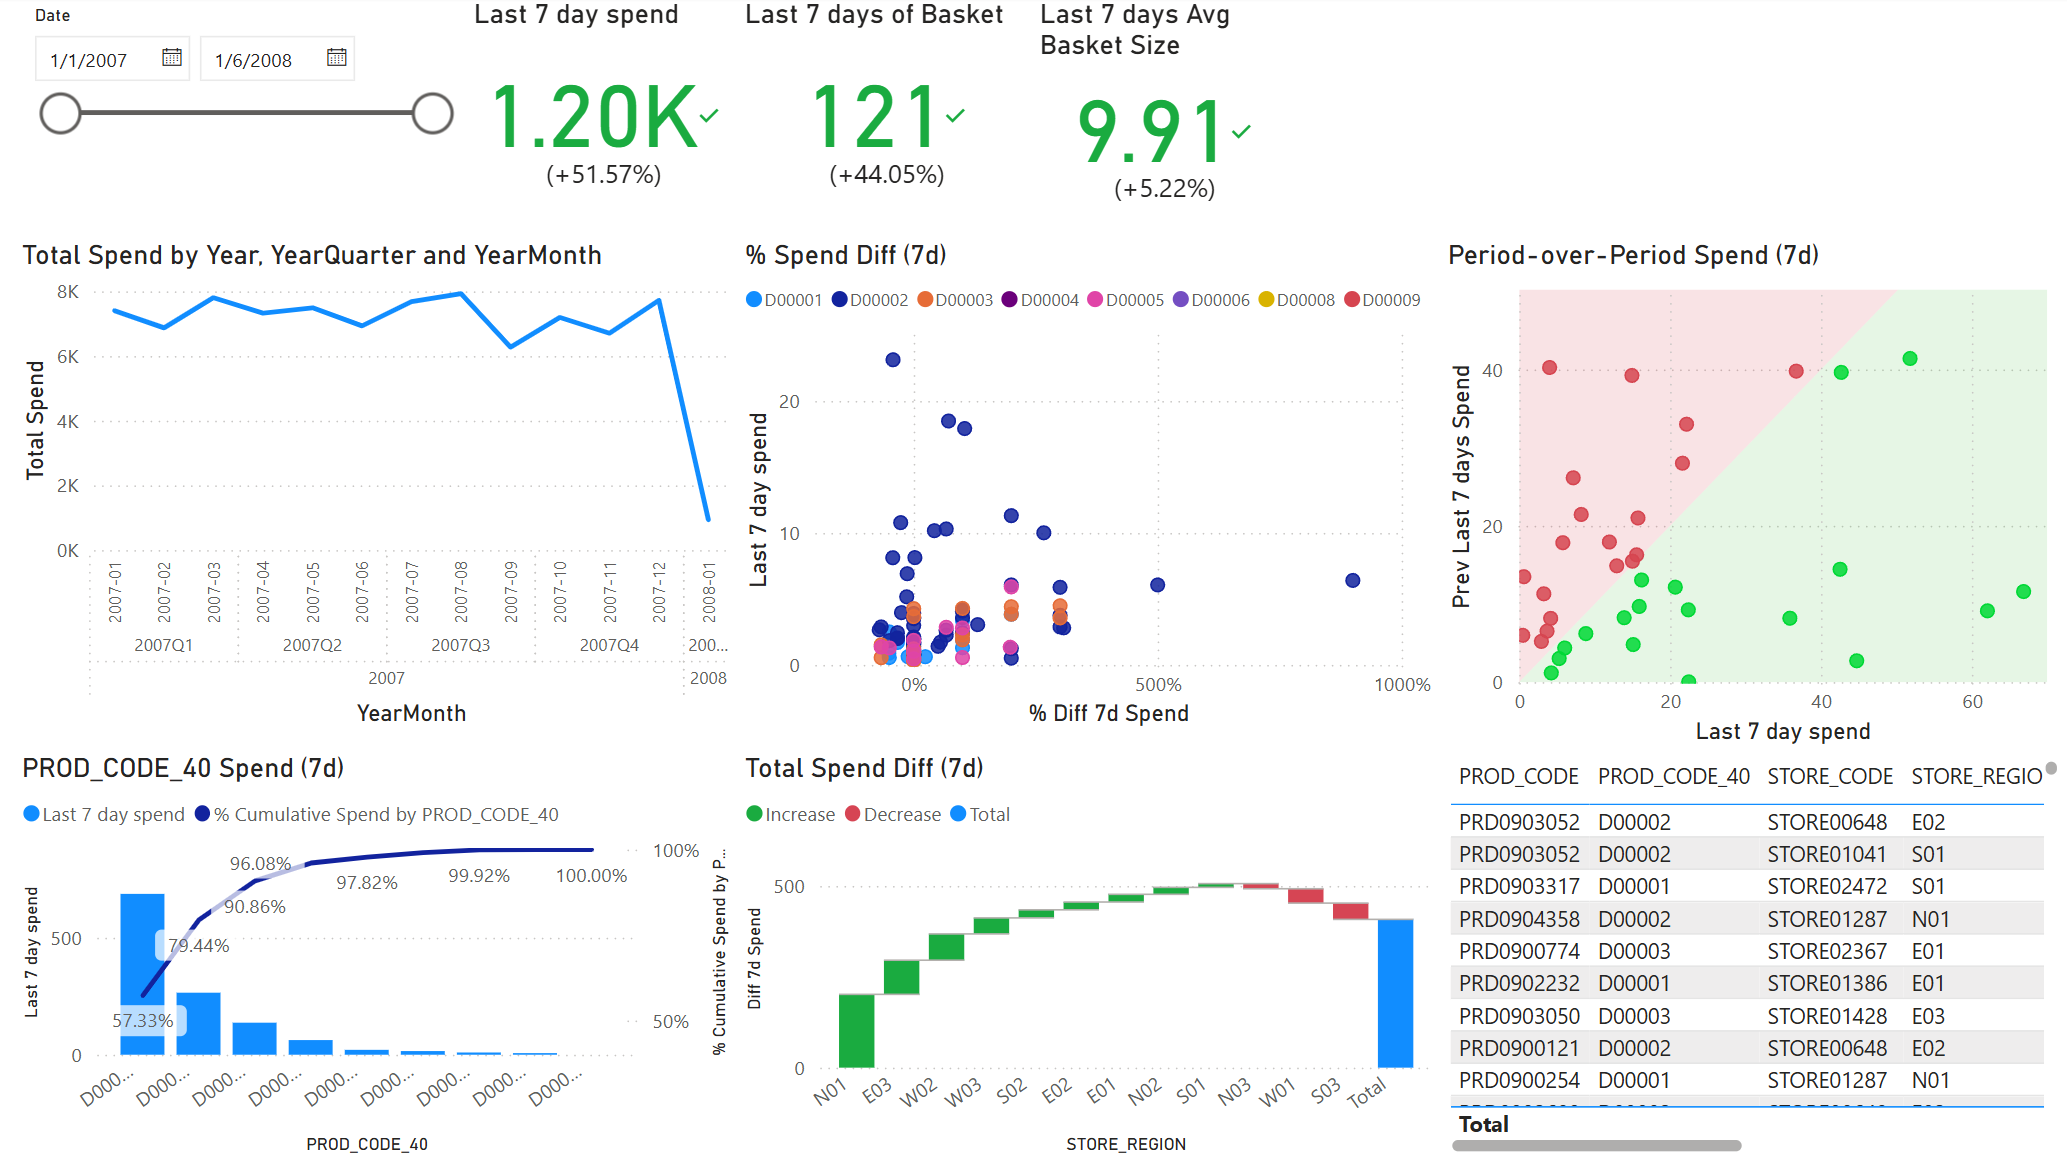

This screenshot's page, from the dashboard's own definition file:
{"tool":"powerbi","page":{"name":"Sale Overview","canvas":[1280,720],"ordinal":0},"visuals":[{"type":"slicer","fields":{"Values":["Date Table.Date"]},"box":[10.6,0,279.7,104.9],"z":0},{"type":"kpi","title":"Last 7 day spend","fields":{"Indicator":["transactions.Last 7 day spend"],"TrendLine":["Date Table.Date"],"Goal":["transactions.Prev Last 7 days Spend"]},"box":[290.4,0,167.2,149],"z":1000},{"type":"kpi","title":"Last 7 days of Basket","fields":{"TrendLine":["Date Table.Date"],"Indicator":["transactions.Last 7 days Total Basket"],"Goal":["transactions.Prev Last 7 days Total Basket"]},"box":[457.6,0,182.4,149],"z":2000},{"type":"kpi","title":"Last 7 days Avg Basket Size","fields":{"TrendLine":["Date Table.Date"],"Indicator":["transactions.Last 7 days Avg Basket Size"],"Goal":["transactions.Prev Last 7 Day Avg Basket Size"]},"box":[640,0,161.1,149],"z":3000},{"type":"lineChart","fields":{"Y":["transactions.Total Spend"],"Category":["Date Table.Date Hierarchy.Year","Date Table.Date Hierarchy.YearQuarter","Date Table.Date Hierarchy.YearMonth"]},"box":[10.6,149,446.9,307.1],"z":4000},{"type":"lineClusteredColumnComboChart","title":"PROD_CODE_40 Spend (7d)","fields":{"Category":["products.PROD_CODE_40"],"Y":["transactions.Last 7 day spend"],"Y2":["transactions.% Cumulative Spend by PROD_CODE_40"]},"box":[10.6,466.7,446.9,253.9],"z":5000},{"type":"scatterChart","title":"% Spend Diff (7d)","fields":{"Category":["products.PROD_CODE"],"X":["transactions.% Diff 7d Spend"],"Y":["transactions.Last 7 day spend"],"Series":["products.PROD_CODE_40"]},"box":[457.6,149,434.8,307.1],"z":6000},{"type":"waterfallChart","title":"Total Spend Diff (7d)","fields":{"Y":["transactions.Diff 7d Spend"],"Category":["stores.STORE_REGION"]},"box":[457.6,466.7,434.8,253.9],"z":7000},{"type":"scatterChart","title":"Period-over-Period Spend (7d)","fields":{"Category":["stores.STORE_CODE"],"X":["transactions.Last 7 day spend"],"Y":["transactions.Prev Last 7 days Spend"]},"box":[892.4,149,387.6,317.7],"z":8000},{"type":"tableEx","fields":{"Values":["products.PROD_CODE","products.PROD_CODE_40","stores.STORE_CODE","stores.STORE_REGION","transactions.Last 7 day spend","transactions.Prev Last 7 days Spend","transactions.% Diff 7d Spend"]},"box":[893,467,387,253],"z":9000}]}

Visuals, with their boxes in screenshot pixels (x1, y1, x2, y2), scaled from the page's 1280x720 canvas onto the 2067x1160 screenshot:
slicer - Date Table.Date: 17/0/469/169
"Last 7 day spend" kpi: 469/0/739/240
"Last 7 days of Basket" kpi: 739/0/1034/240
"Last 7 days Avg Basket Size" kpi: 1034/0/1294/240
lineChart - transactions.Total Spend x Date Table.Date Hierarchy.Year: 17/240/739/735
"PROD_CODE_40 Spend (7d)" lineClusteredColumnComboChart: 17/752/739/1159
"% Spend Diff (7d)" scatterChart: 739/240/1441/735
"Total Spend Diff (7d)" waterfallChart: 739/752/1441/1159
"Period-over-Period Spend (7d)" scatterChart: 1441/240/2066/752
tableEx - products.PROD_CODE x products.PROD_CODE_40: 1442/752/2066/1159
